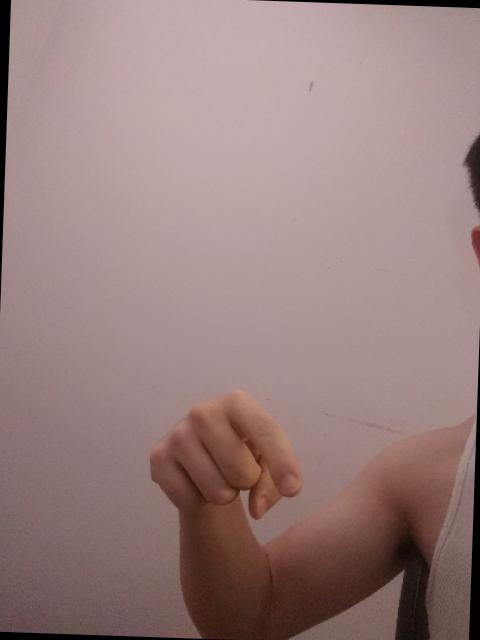Z: (143, 387, 310, 524)
